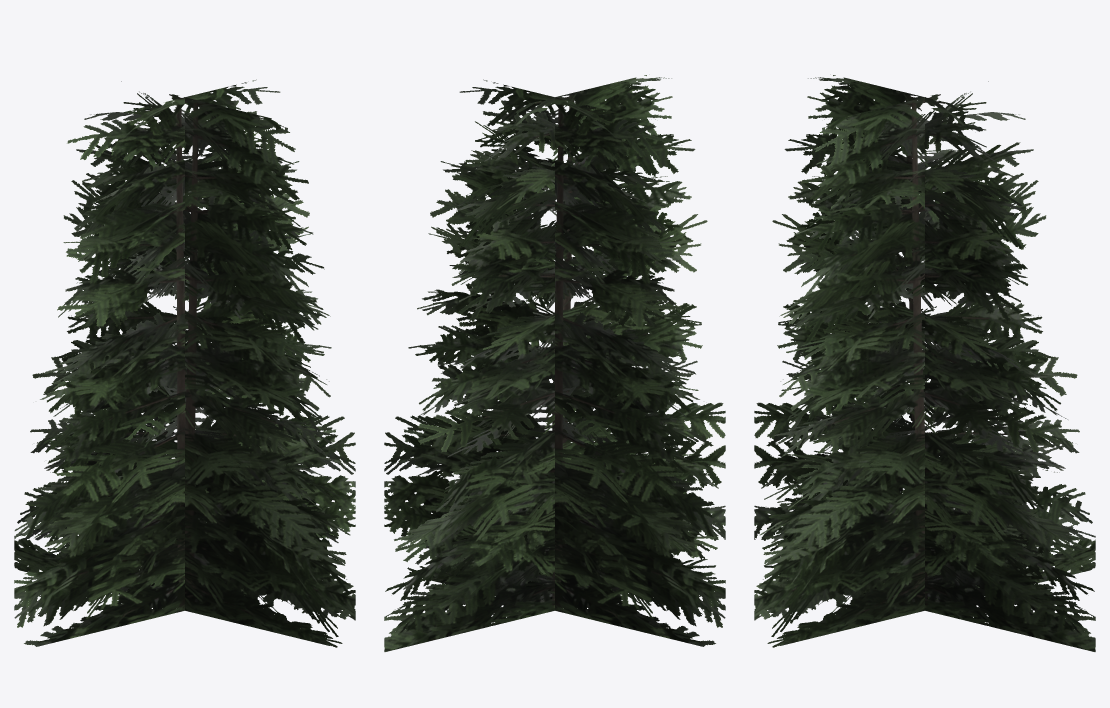
Rendered from smrk_mlady_daleko.glb.
3 renders of one model, left to right at view 1: azimuth 30°, elevation 25°; view 2: azimuth 150°, elevation 25°; view 3: azimuth 270°, elevation 25°, orthographic.
Visible parts, largest first — view 1: smrk_mlady_daleko; view 2: smrk_mlady_daleko; view 3: smrk_mlady_daleko.
Part boxes in pixels (x1,y1,x2,y2): smrk_mlady_daleko: (14,79,355,647); smrk_mlady_daleko: (384,75,725,651); smrk_mlady_daleko: (754,75,1095,651).
Bounding box in the file's own units: 5.71 × 8.22 × 4.95.
3 materials, 3 textured.
